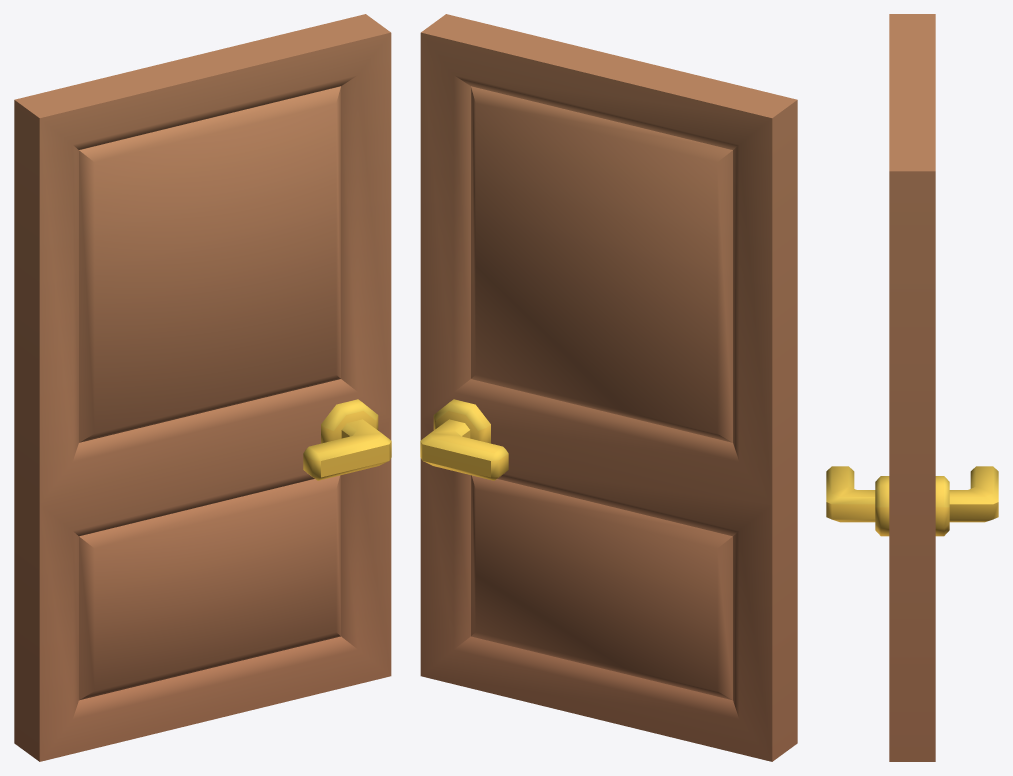
File: door.glb
3 renders of one model, left to right at view 1: azimuth 30°, elevation 25°; view 2: azimuth 150°, elevation 25°; view 3: azimuth 270°, elevation 25°, orthographic. The views are drawn at different scales.
Parts seen in each view (by area): view 1: wall_tiled_door; view 2: wall_tiled_door; view 3: wall_tiled_door.
Boxes of the visible parts, box(x1,y1,x2,y2) form: wall_tiled_door: box(14, 14, 391, 761); wall_tiled_door: box(420, 14, 797, 761); wall_tiled_door: box(826, 14, 998, 761).
Size of the model in its own units: 1.6 by 2.8 by 0.74.
Materials: 1 (1 with a texture image).
